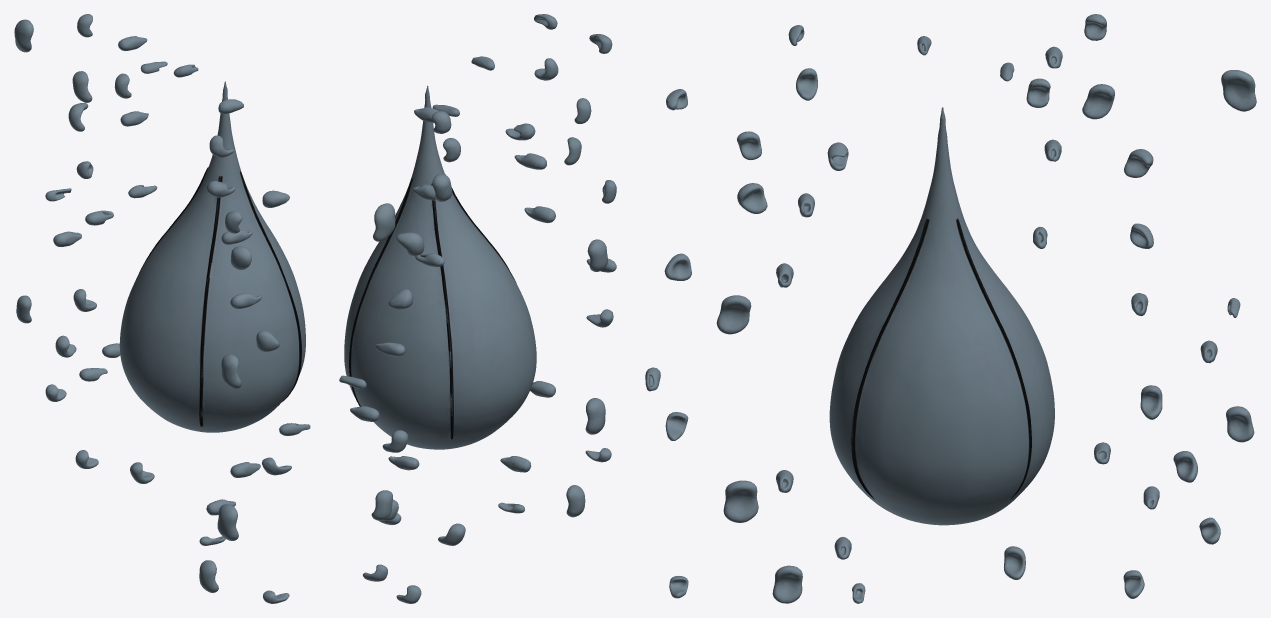
File: raindrop-model.glb
3 renders of one model, left to right at view 1: azimuth 30°, elevation 25°; view 2: azimuth 150°, elevation 25°; view 3: azimuth 270°, elevation 25°, orthographic. The views are drawn at different scales.
Parts seen in each view (by area): view 1: tripo_node_4fa48db8-250c-4567-b64f-caec90a51708; view 2: tripo_node_4fa48db8-250c-4567-b64f-caec90a51708; view 3: tripo_node_4fa48db8-250c-4567-b64f-caec90a51708.
Boxes of the visible parts, bbox=[...] form: tripo_node_4fa48db8-250c-4567-b64f-caec90a51708: bbox=[14, 14, 310, 603]; tripo_node_4fa48db8-250c-4567-b64f-caec90a51708: bbox=[339, 14, 616, 603]; tripo_node_4fa48db8-250c-4567-b64f-caec90a51708: bbox=[645, 14, 1256, 603].
Size of the model in its own units: 0.3513 by 1 by 0.9397.
1 material, 1 textured.
